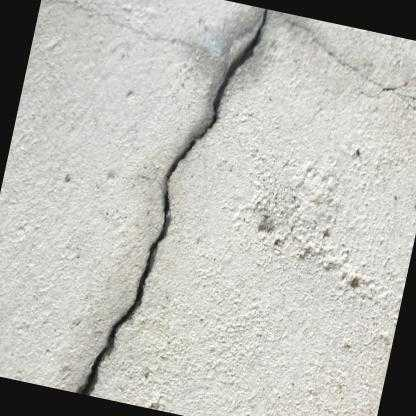crack: (74, 6, 271, 396)
